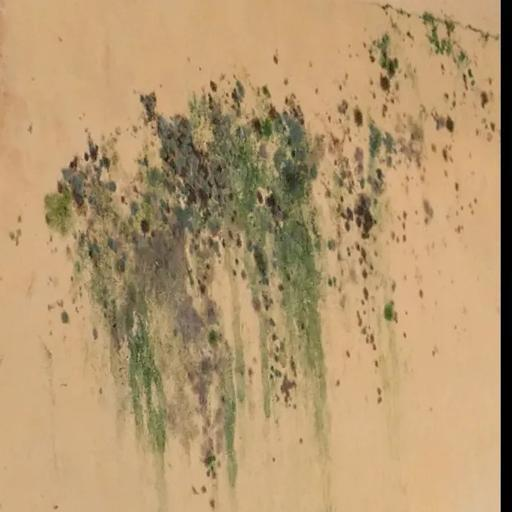algae: (46, 73, 439, 496)
